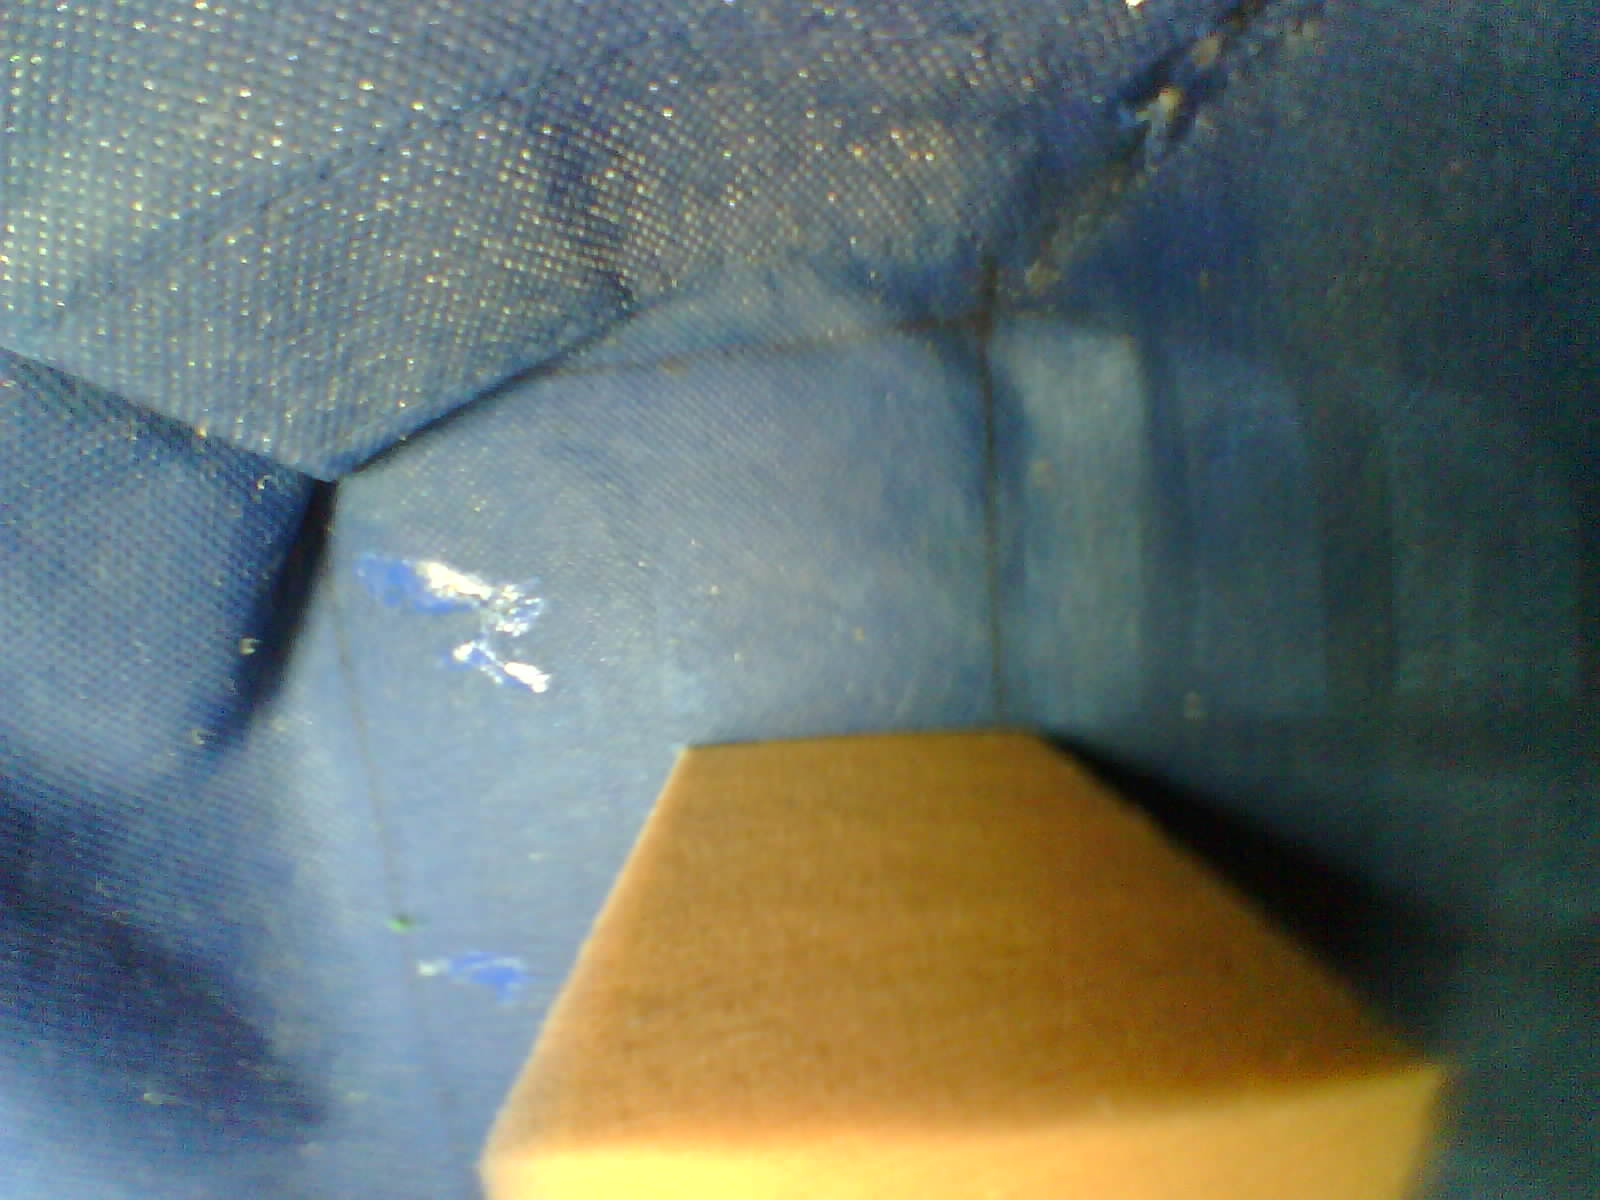cube-soft: (459, 707, 1468, 1200)
